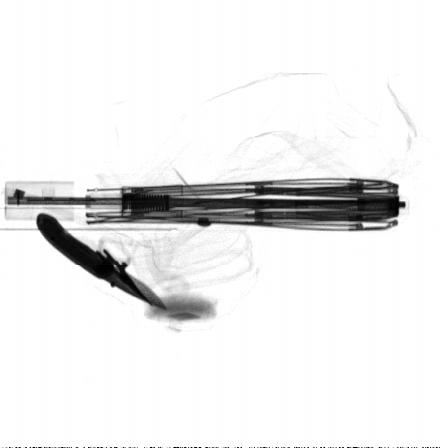Knife: (36, 214, 167, 308)
Scissors: (86, 236, 150, 306)
